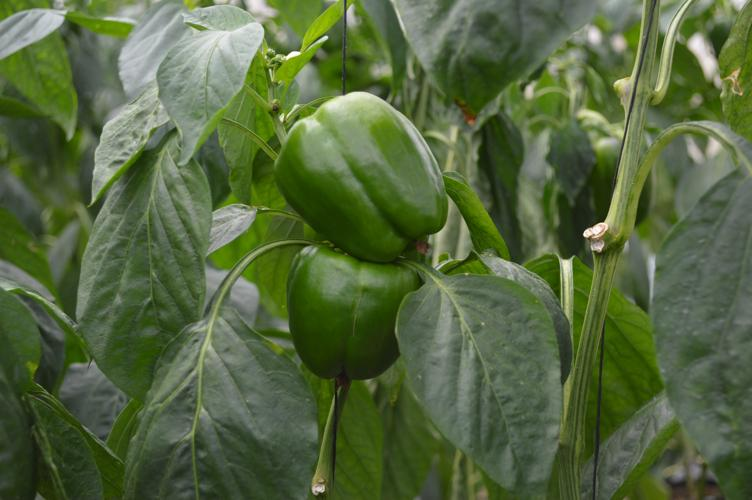BellPepper: (270, 88, 455, 261), (281, 245, 426, 384)
